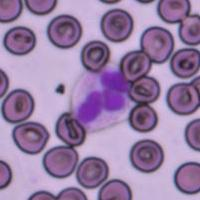N: (70, 64, 130, 132)
